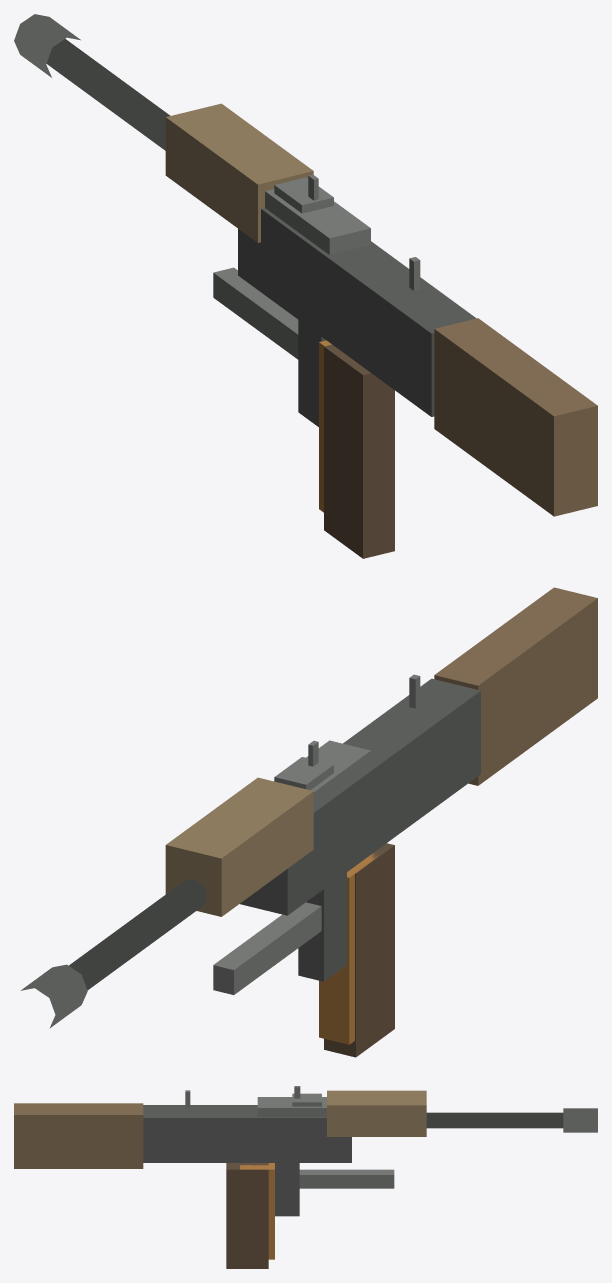
Rendered from w_akm.glb.
3 renders of one model, top to bottom at view 1: azimuth 30°, elevation 25°; view 2: azimuth 150°, elevation 25°; view 3: azimuth 270°, elevation 25°, orthographic. The views are drawn at different scales.
Visible parts, largest first — view 1: body; view 2: body; view 3: body.
Boxes of the visible parts, x1,y1,x2,y2 form: body: (14, 14, 597, 558); body: (20, 587, 597, 1057); body: (14, 1086, 597, 1268).
Bounding box in the file's own units: 0.07 × 0.395 × 1.17.
